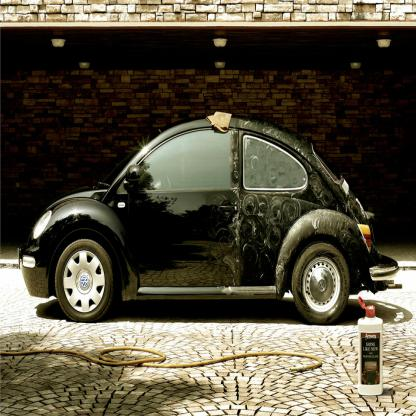Car: (18, 115, 402, 325)
